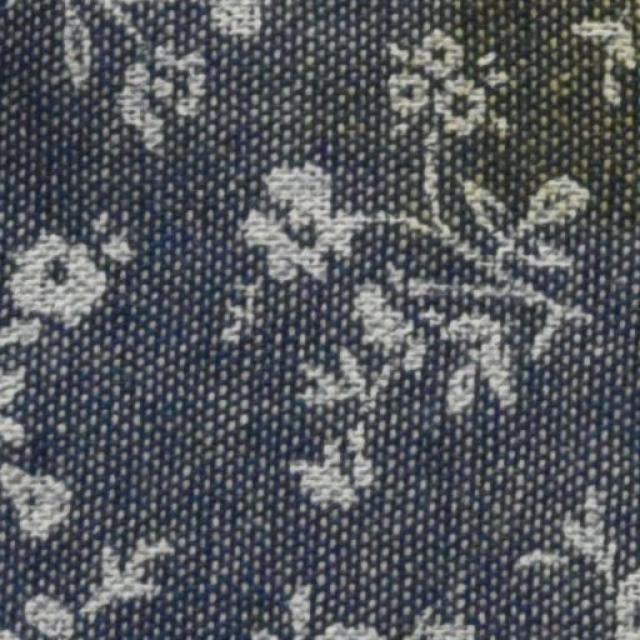Stain: (394, 1, 639, 224)
